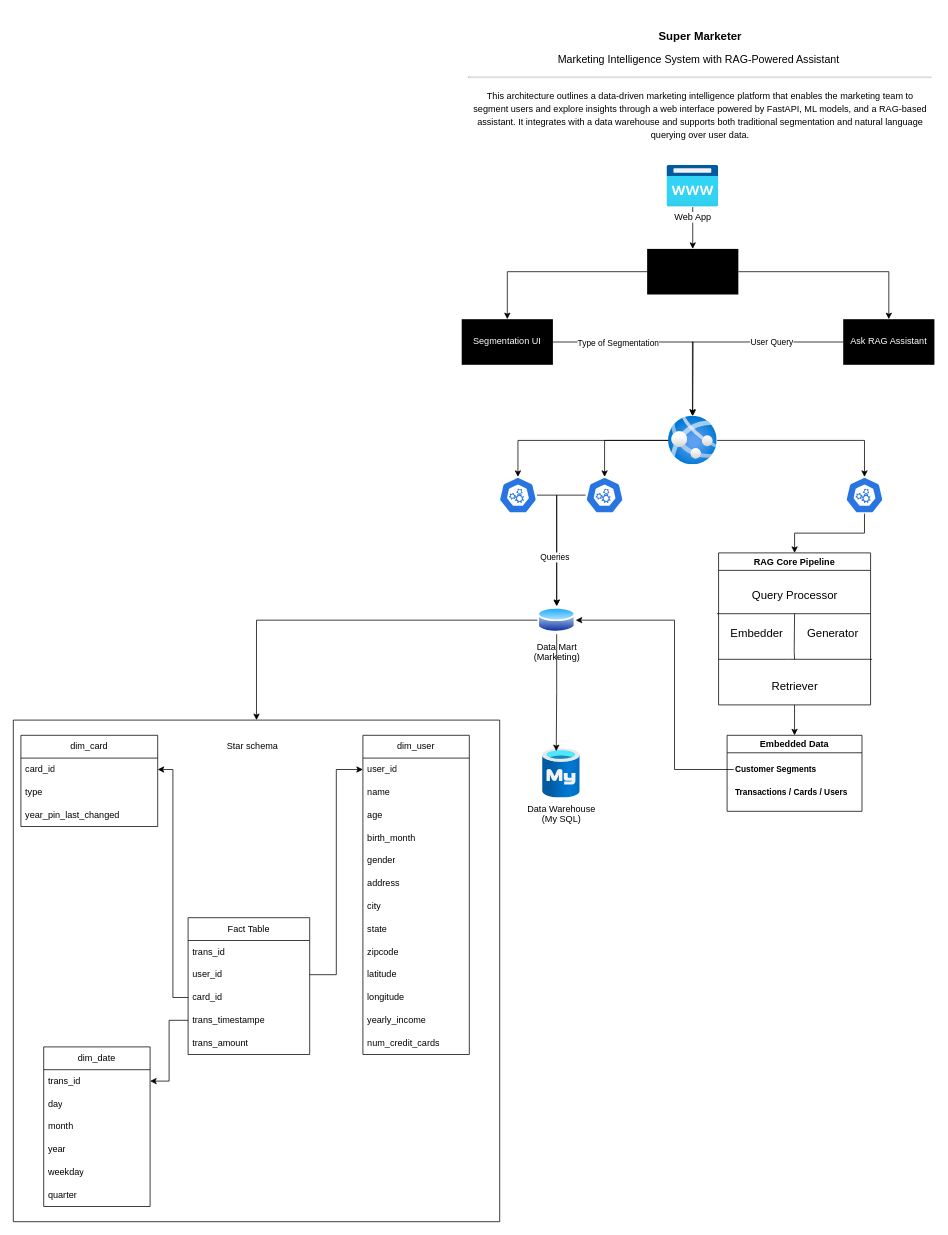
Some shapes in this 948 by 1235 pixel diagram are drawn without their labels. Each missing label, with the centre of its shape:
FastAPI App: [692,440]
Frontend App (React.js): [692,271]
ML Model API: [604,494]
RAG System API: [864,494]
Segment Data API (from Data Mart): [517,494]
